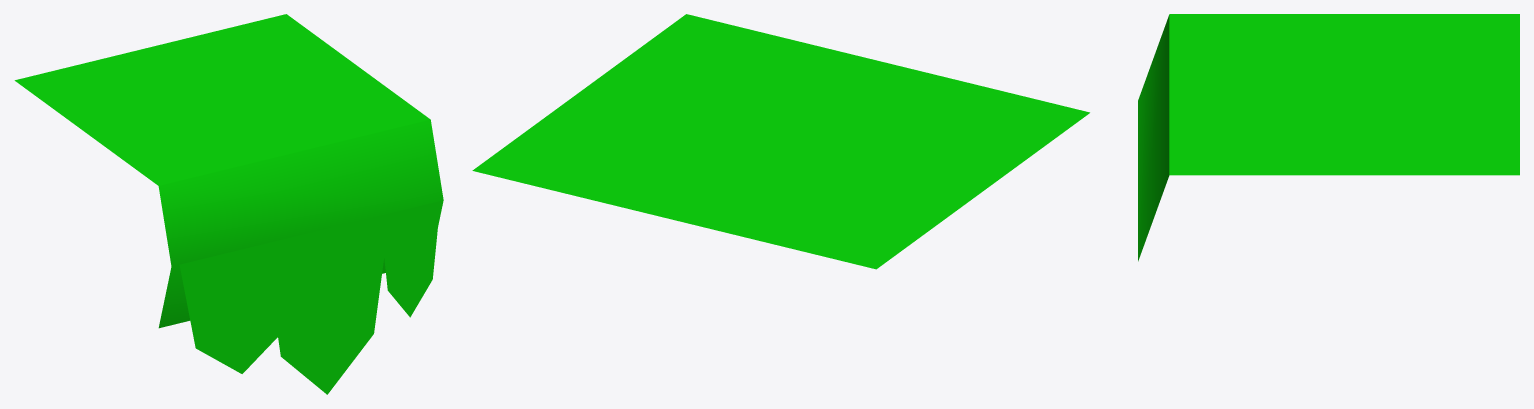
The model's file is Orthogonal_TopFloor_003.glb.
3 renders of one model, left to right at view 1: azimuth 30°, elevation 25°; view 2: azimuth 150°, elevation 25°; view 3: azimuth 270°, elevation 25°, orthographic. The views are drawn at different scales.
Parts seen in each view (by area): view 1: Orthogonal_TopFloor.003; view 2: Orthogonal_TopFloor.003; view 3: Orthogonal_TopFloor.003.
Boxes of the visible parts, x1,y1,x2,y2 form: Orthogonal_TopFloor.003: (14, 14, 443, 394); Orthogonal_TopFloor.003: (472, 14, 1089, 269); Orthogonal_TopFloor.003: (1138, 14, 1519, 261).
Bounding box in the file's own units: 0.5 × 0.4171 × 0.5.
